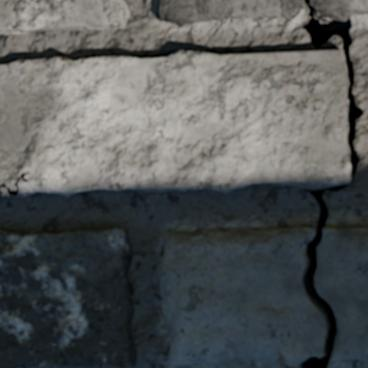brick: (0, 51, 350, 196), (0, 229, 136, 367), (0, 0, 129, 35), (3, 190, 9, 196)
broken_brick: (160, 228, 326, 366), (315, 224, 367, 362), (159, 0, 302, 27), (311, 0, 367, 17)
crack: (298, 0, 366, 367), (0, 171, 31, 197), (343, 359, 354, 361)
